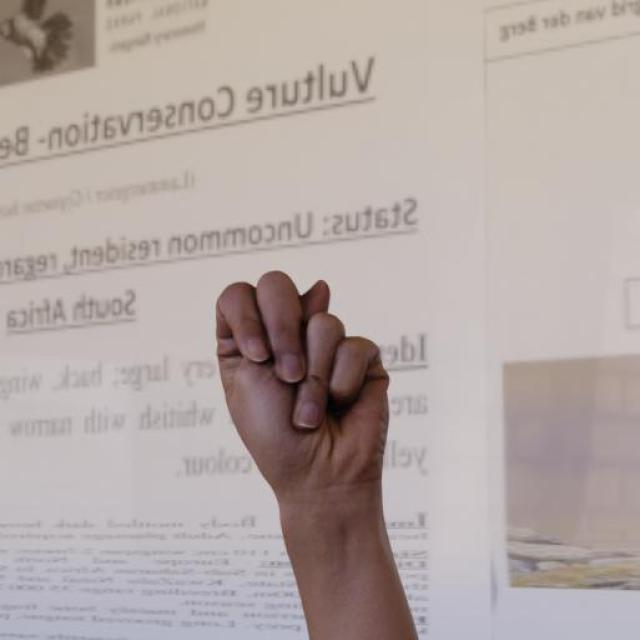N: (206, 261, 404, 541)
